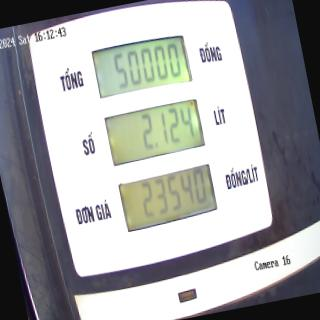screen: (88, 26, 222, 238)
